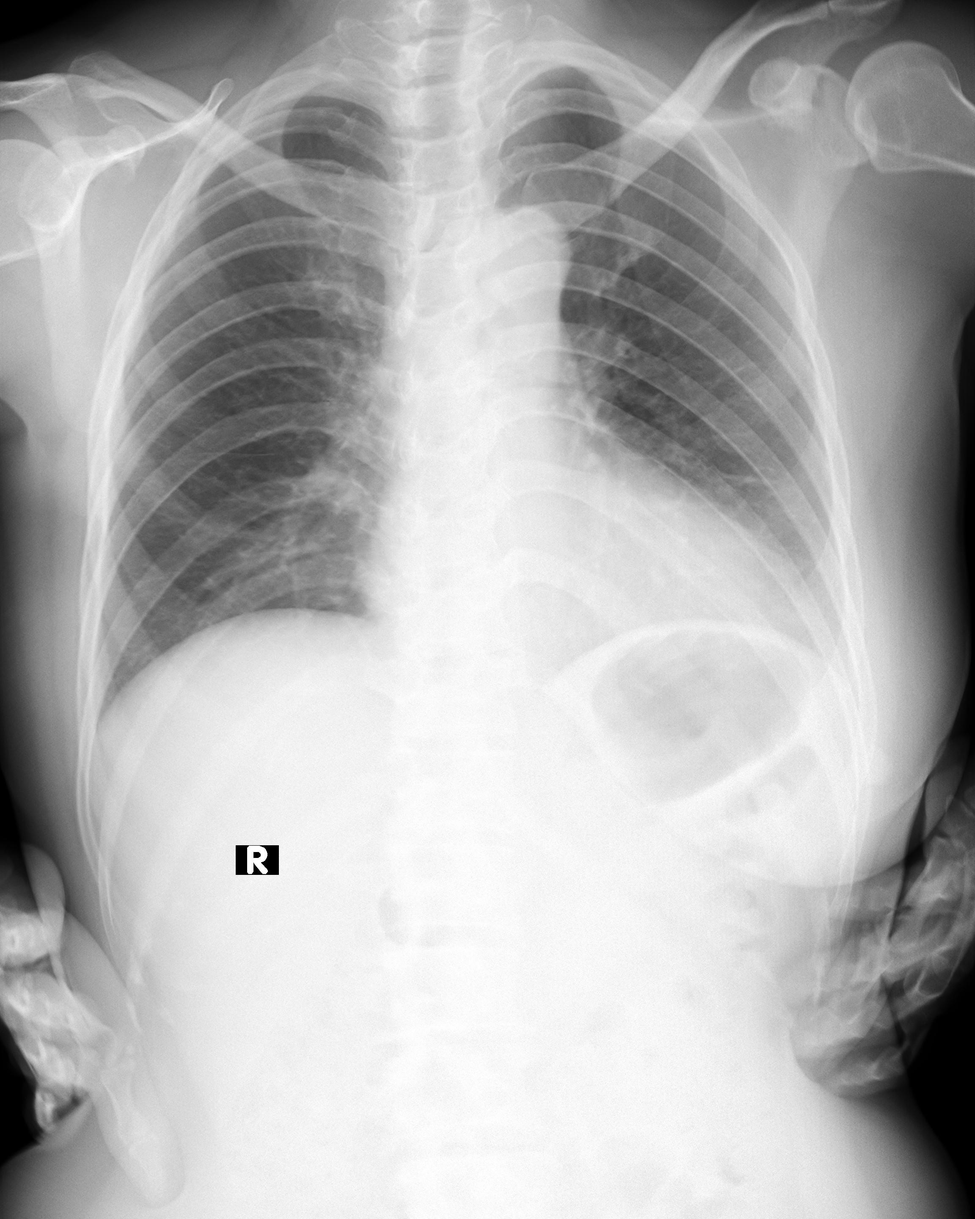Aortic enlargement: (465, 204, 575, 314)
Cardiomegaly: (353, 510, 783, 663)
